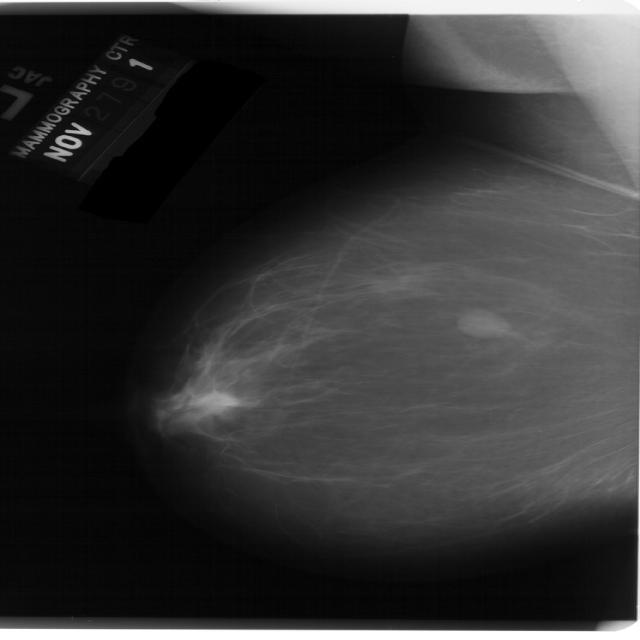tumour: (454, 308, 510, 338)
